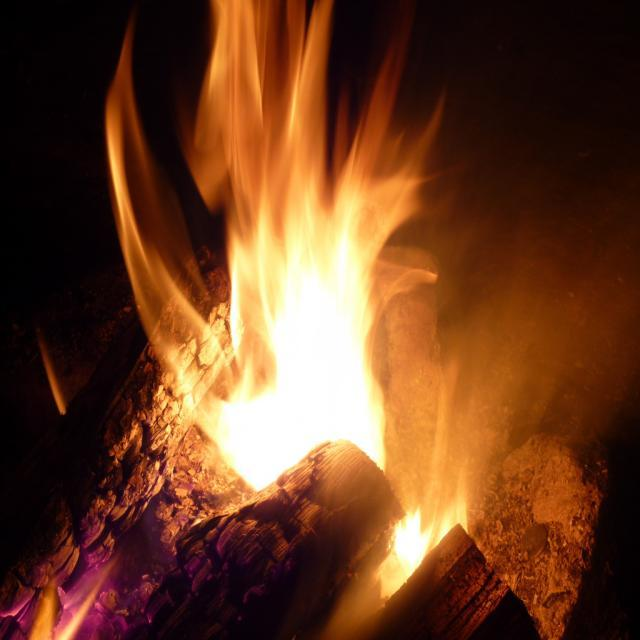Fire: (226, 202, 365, 446), (222, 10, 320, 176)
